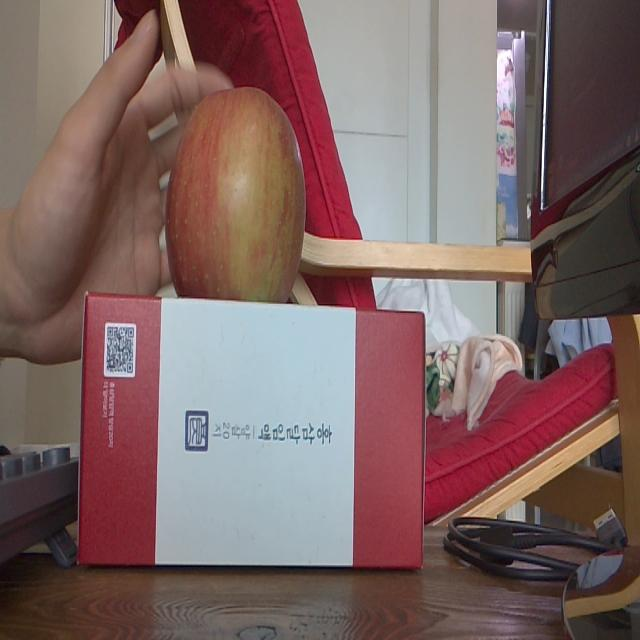apple: (166, 87, 304, 296)
